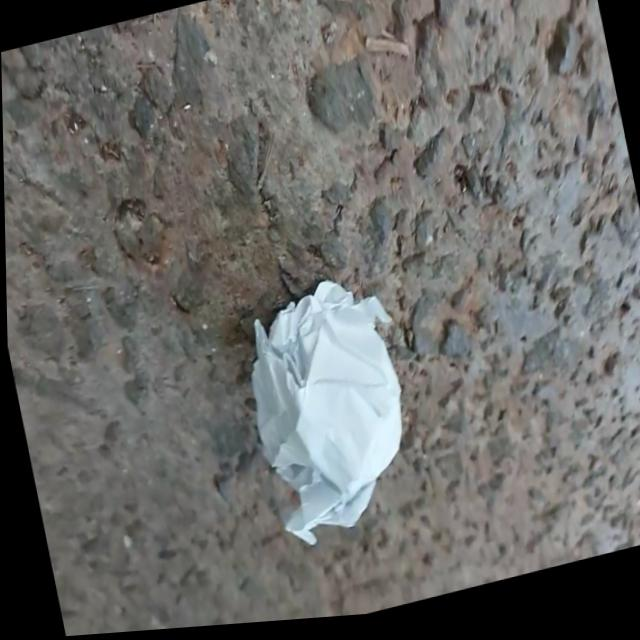paper: (214, 242, 457, 583)
